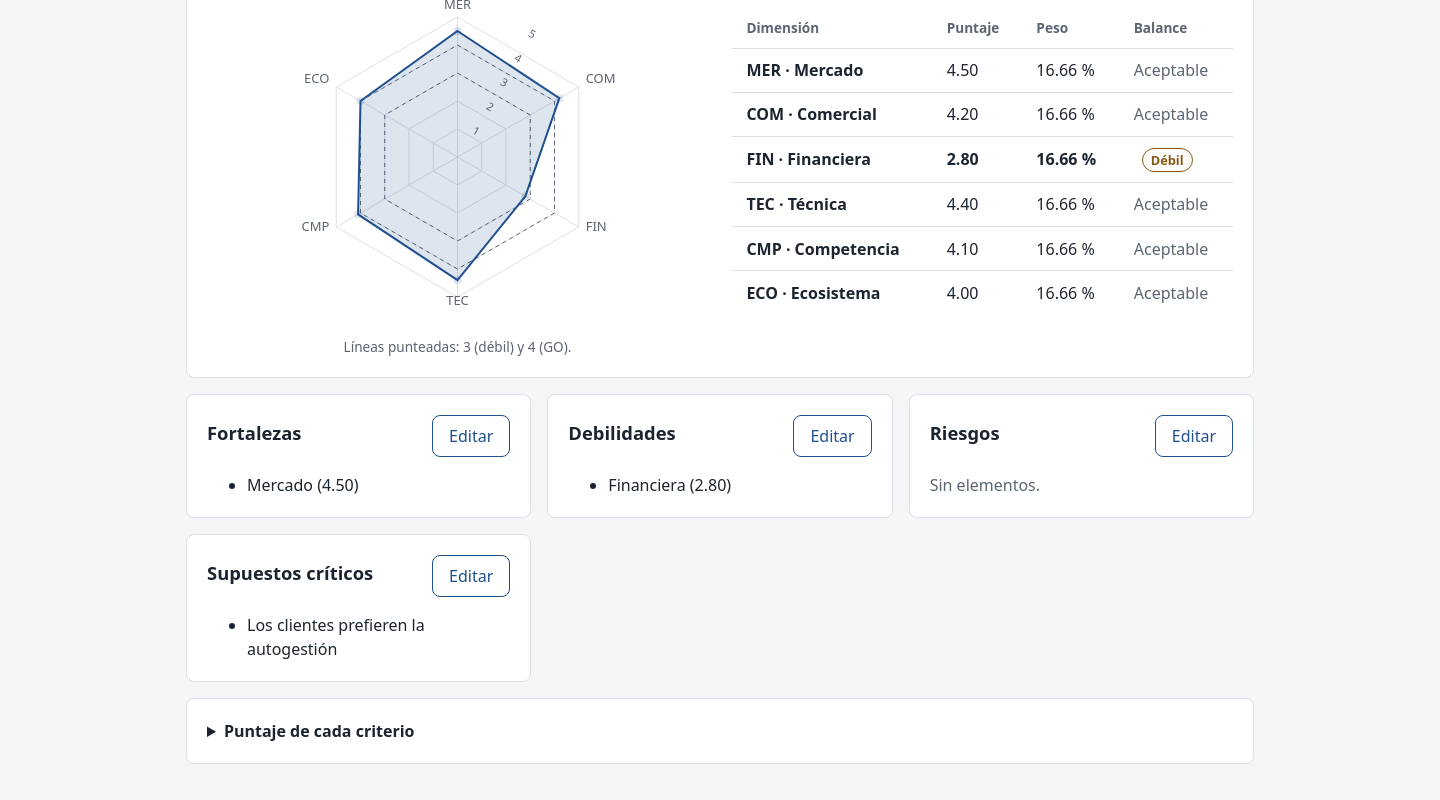
el PM edita una lista del resumen
This screenshot has width=1440, height=800.
(page scrolled)
Expected: the text "Sin elementos." is shown, [930,474,1040,496]
Click the button "Editar" next to "Riesgos".
click(1194, 436)  # box [1155,415,1233,457]
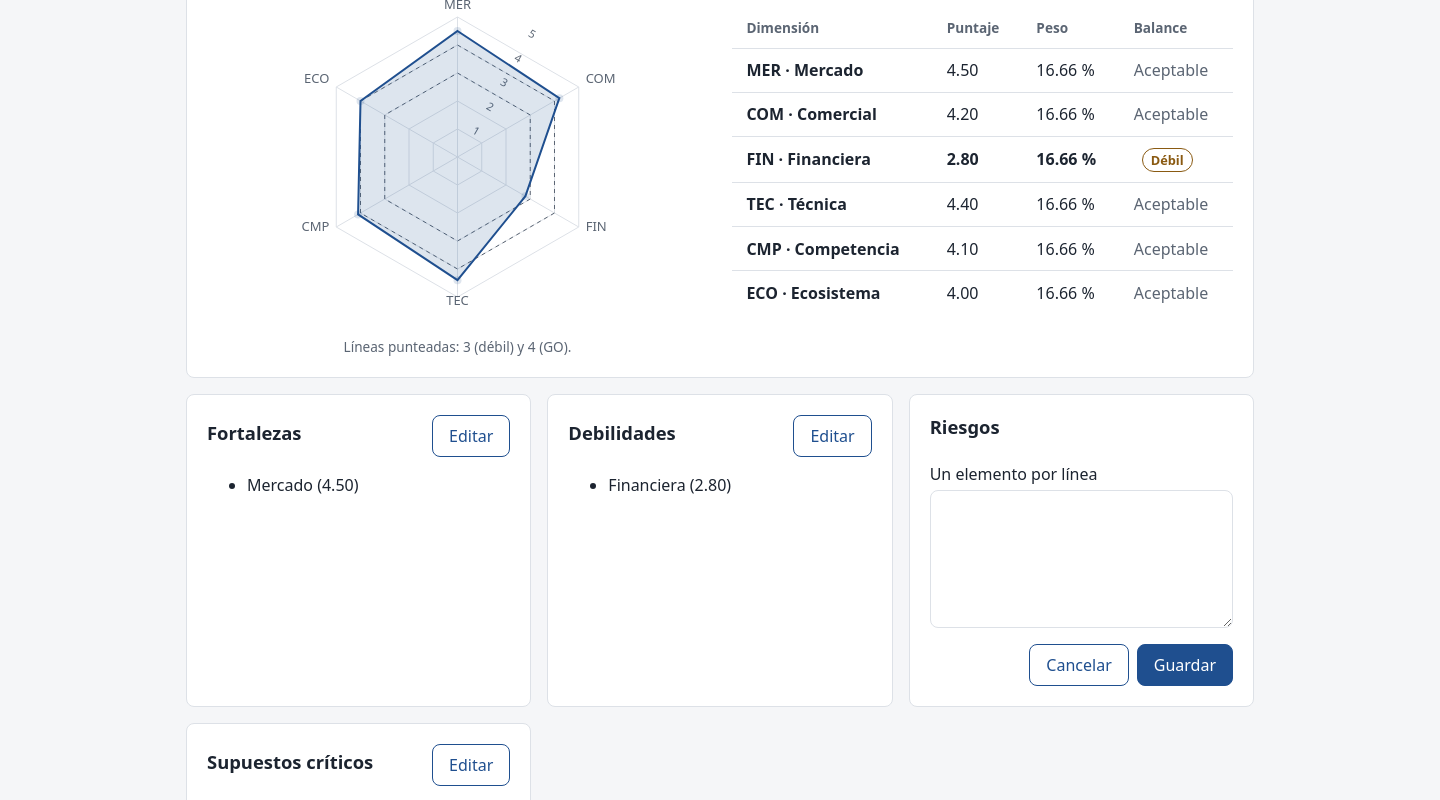
Type "Dependencia de Nexopus" into the text box named "Editar riesgos".
click(1081, 559); type("Dependencia de Nexopus")  # box [930,490,1233,628]
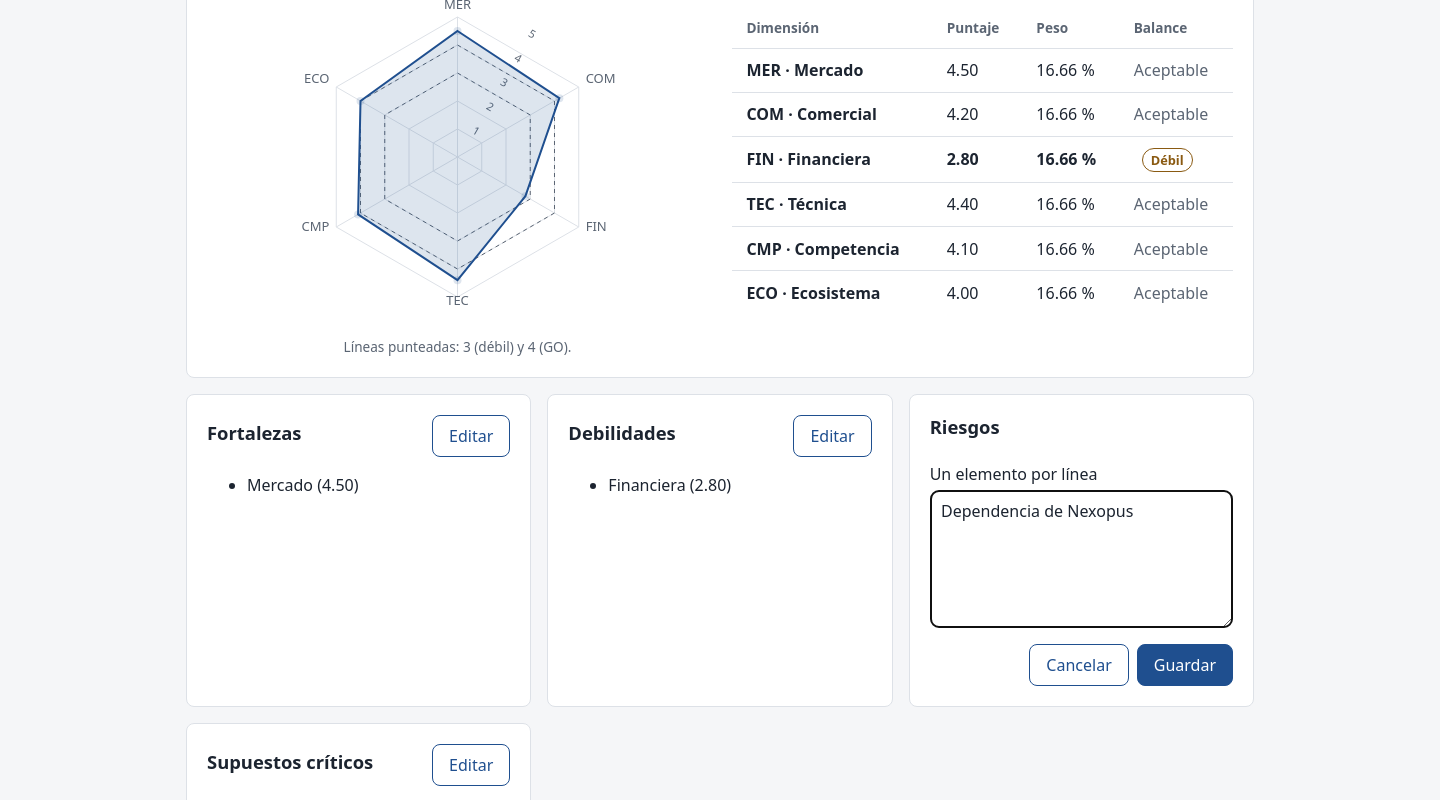
Click the button "Guardar".
click(1185, 665)  # box [1137,644,1233,686]
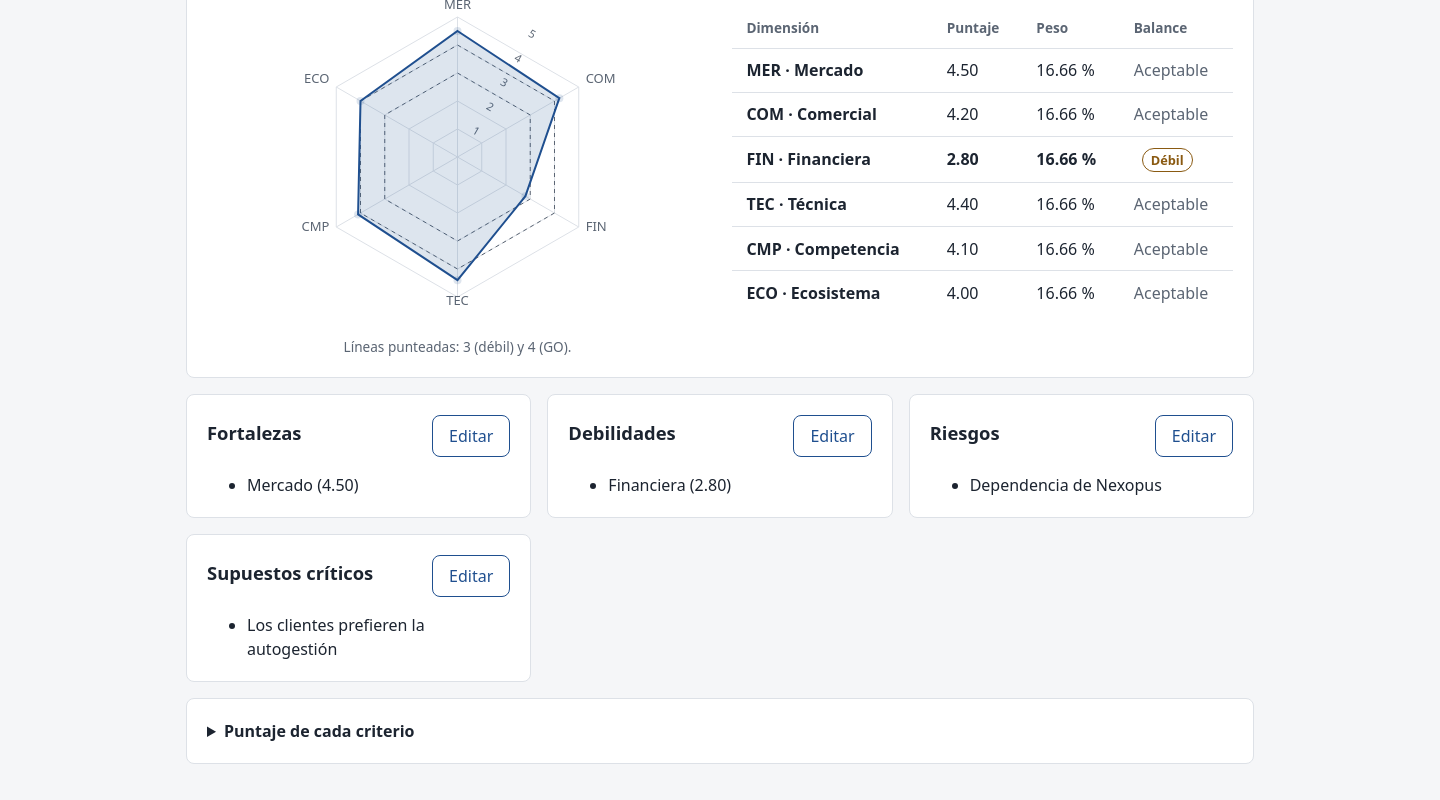
Now the list item "Dependencia de Nexopus" is shown, box [970,474,1162,496]
